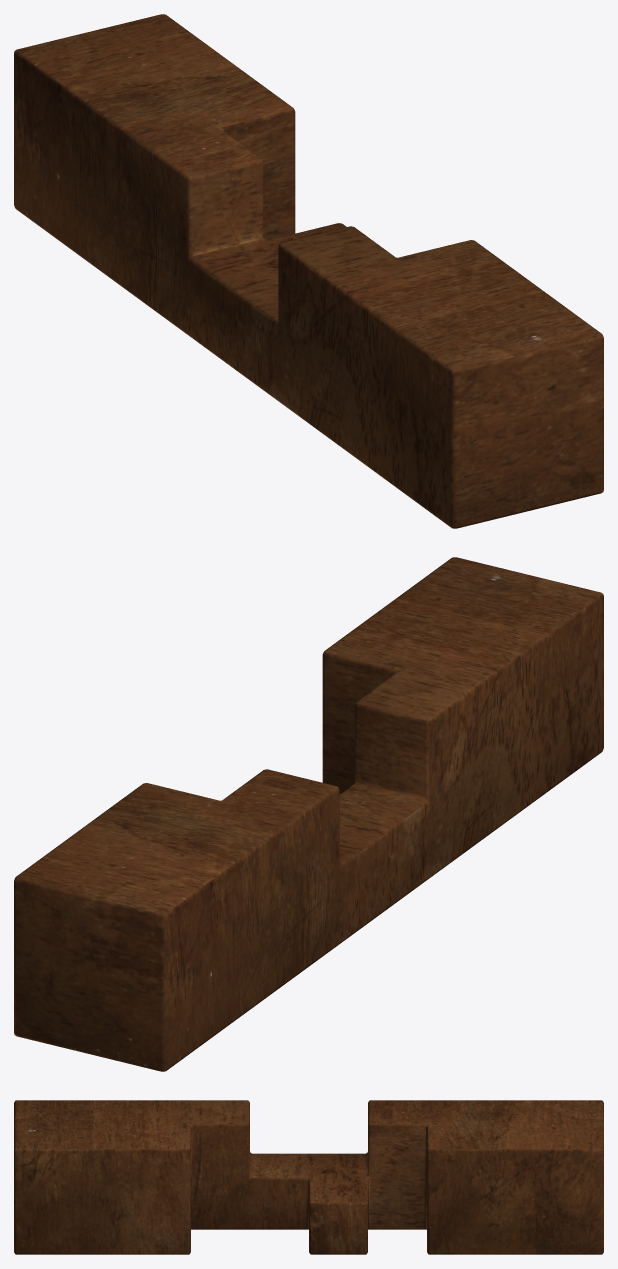
File: luban_e.glb
3 renders of one model, top to bottom at view 1: azimuth 30°, elevation 25°; view 2: azimuth 150°, elevation 25°; view 3: azimuth 270°, elevation 25°, orthographic. The views are drawn at different scales.
Visible parts, largest first — view 1: luban_e; view 2: luban_e; view 3: luban_e.
Part boxes in pixels (x1,y1,x2,y2): luban_e: (14, 14, 603, 528); luban_e: (14, 557, 603, 1071); luban_e: (14, 1100, 603, 1254).
Size of the model in its own units: 2 by 2 by 10.
Materials: 1 (1 with a texture image).
